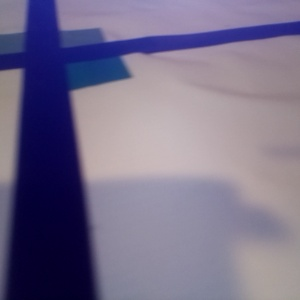top_right: (14, 141, 172, 261)
